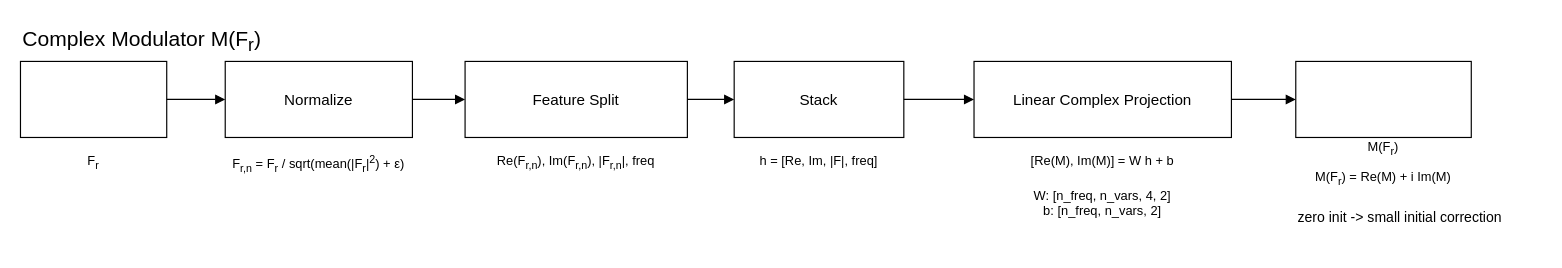
Some shapes in this 1562 by 268 pixel diagram are drawn without their labels. The box of each missing label's shape, as (x1, y1, x2, y2) in pixels:
Input: (19, 60, 167, 137)
Output: (1295, 60, 1471, 137)
